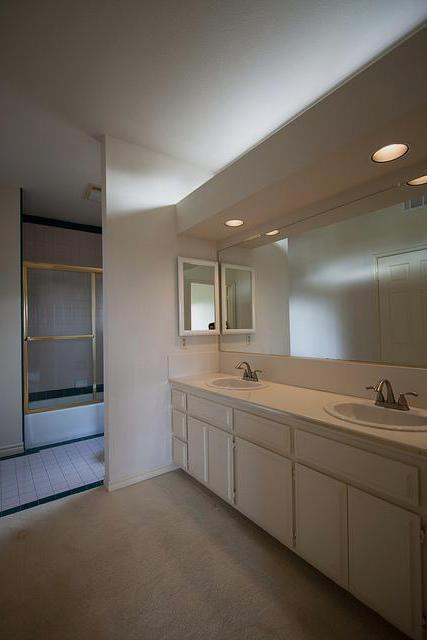Ducha: (22, 260, 144, 448)
Lavamanos: (318, 371, 426, 439), (204, 356, 268, 392)
